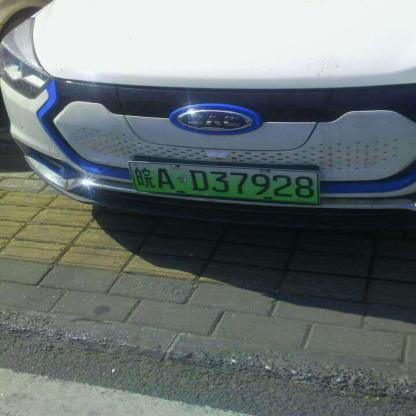lp: (132, 159, 322, 204)
